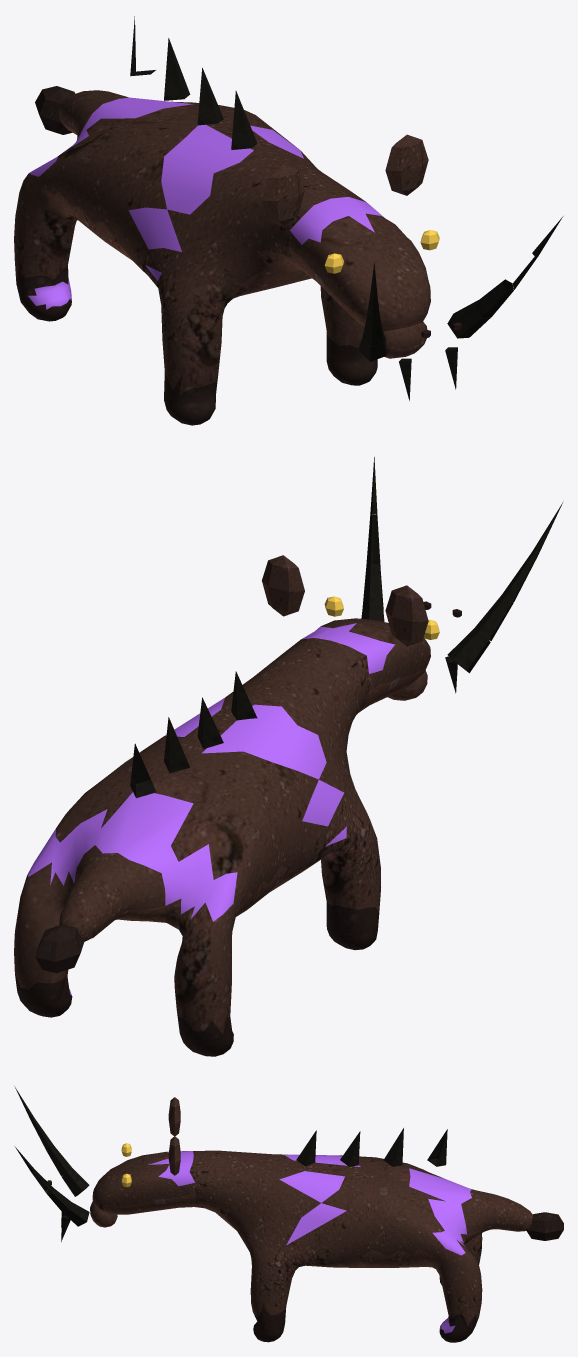
File: boss_03.glb
3 renders of one model, top to bottom at view 1: azimuth 30°, elevation 25°; view 2: azimuth 150°, elevation 25°; view 3: azimuth 270°, elevation 25°, orthographic. The views are drawn at different scales.
Visible parts, largest first — view 1: boss_03; view 2: boss_03; view 3: boss_03.
Boxes of the visible parts, <box> form: boss_03: <box>14,16,563,425</box>; boss_03: <box>14,457,562,1056</box>; boss_03: <box>14,1086,563,1342</box>.
Bounding box in the file's own units: 1.19 × 1.69 × 4.2.
Materials: 6 (6 with a texture image).
